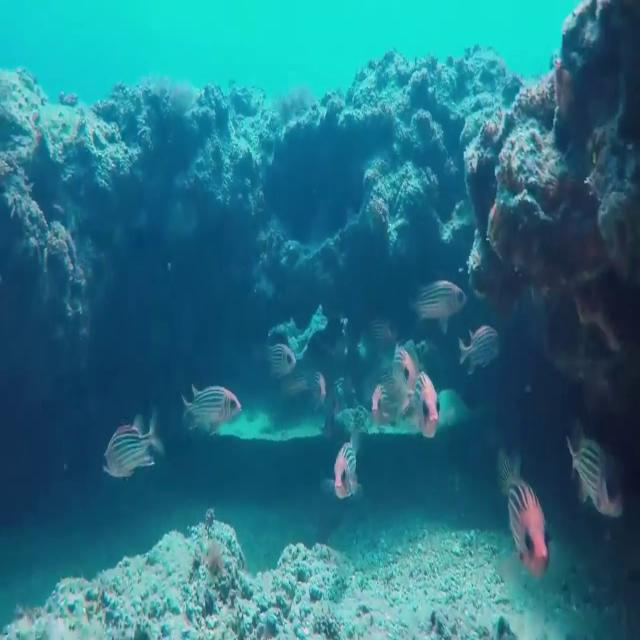Asker Baligi: (95, 414, 160, 488), (404, 262, 464, 339), (180, 381, 242, 435), (330, 440, 358, 516), (262, 339, 299, 384)
